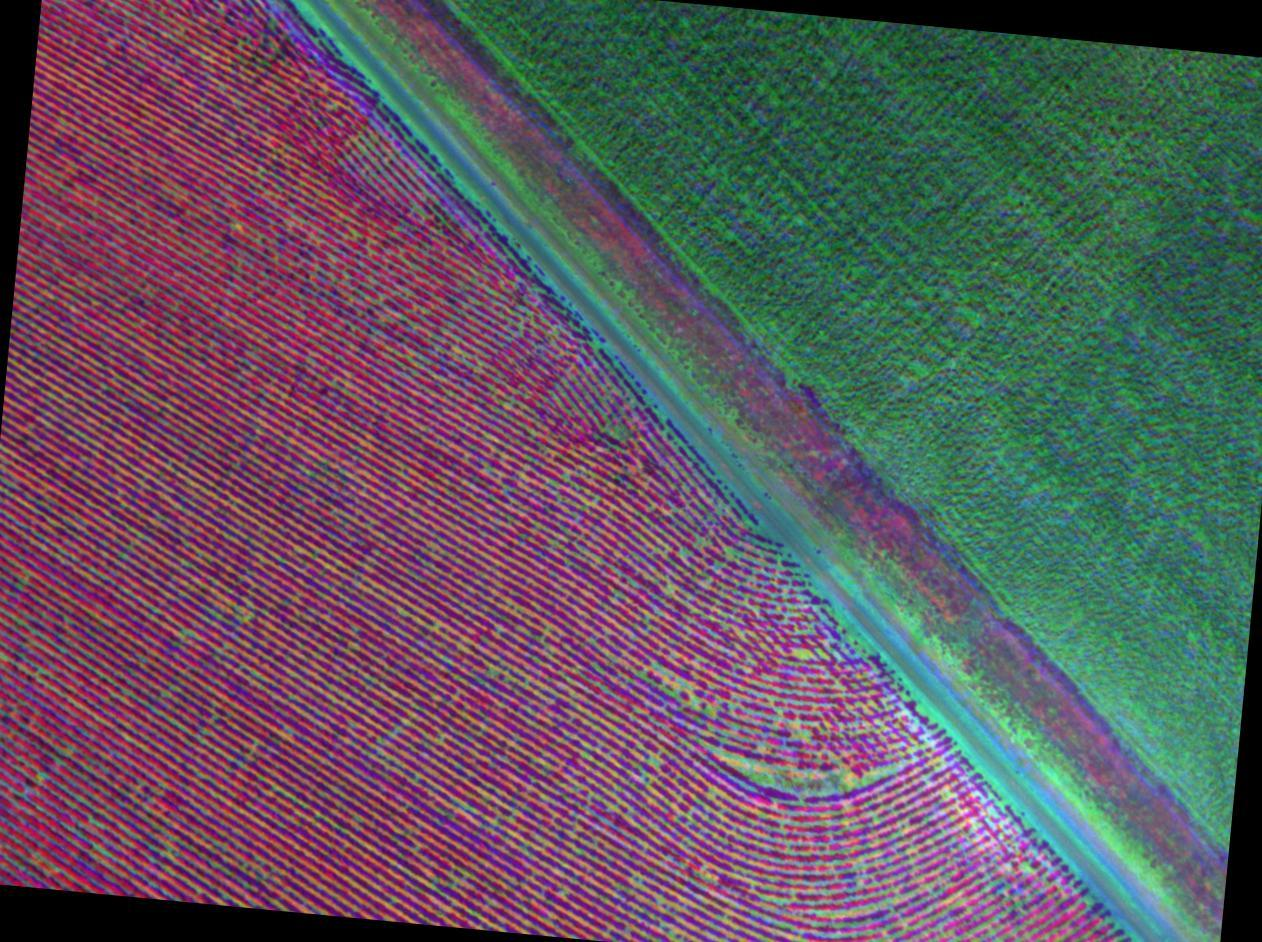dc: (708, 733, 913, 814), (641, 520, 740, 608), (796, 888, 922, 942), (791, 630, 879, 700), (631, 663, 712, 710)
